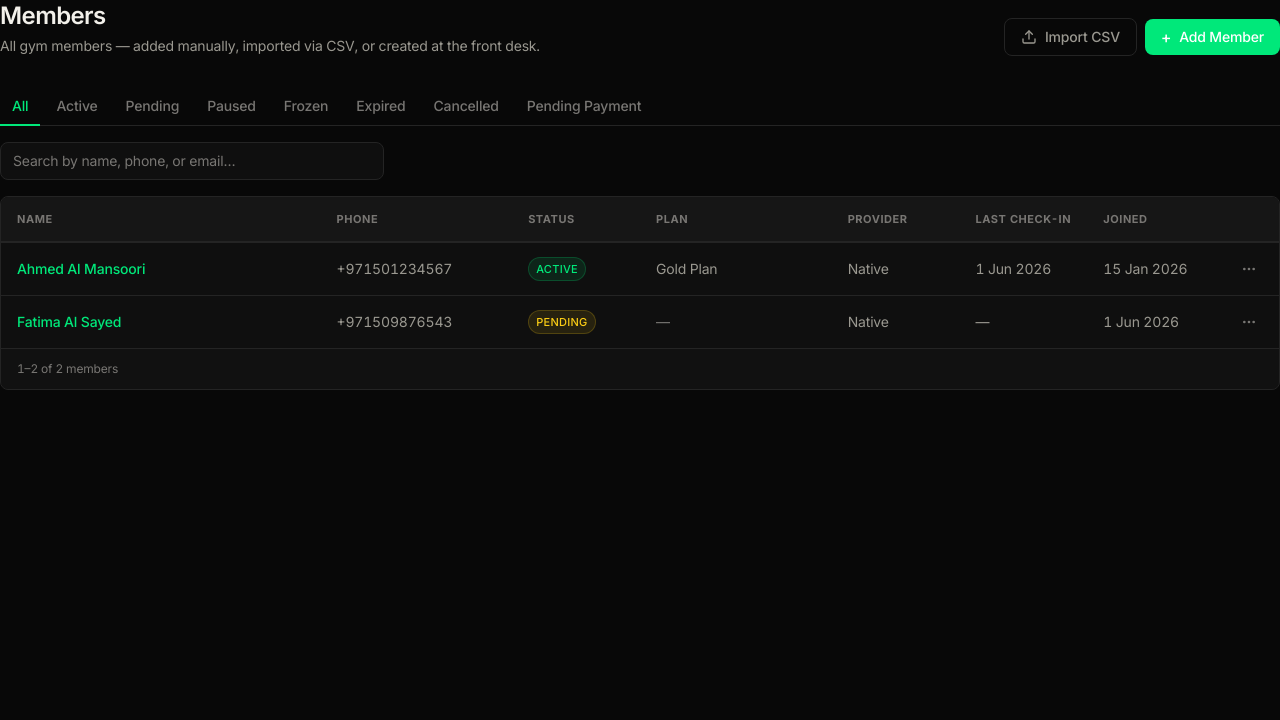
MembersClient › deactivate flow › opens confirm dialog when Deactivate clicked
The image size is (1280, 720).
Step 1. Click the button named "Actions for" → (1249, 269), box [1235, 255, 1263, 283]
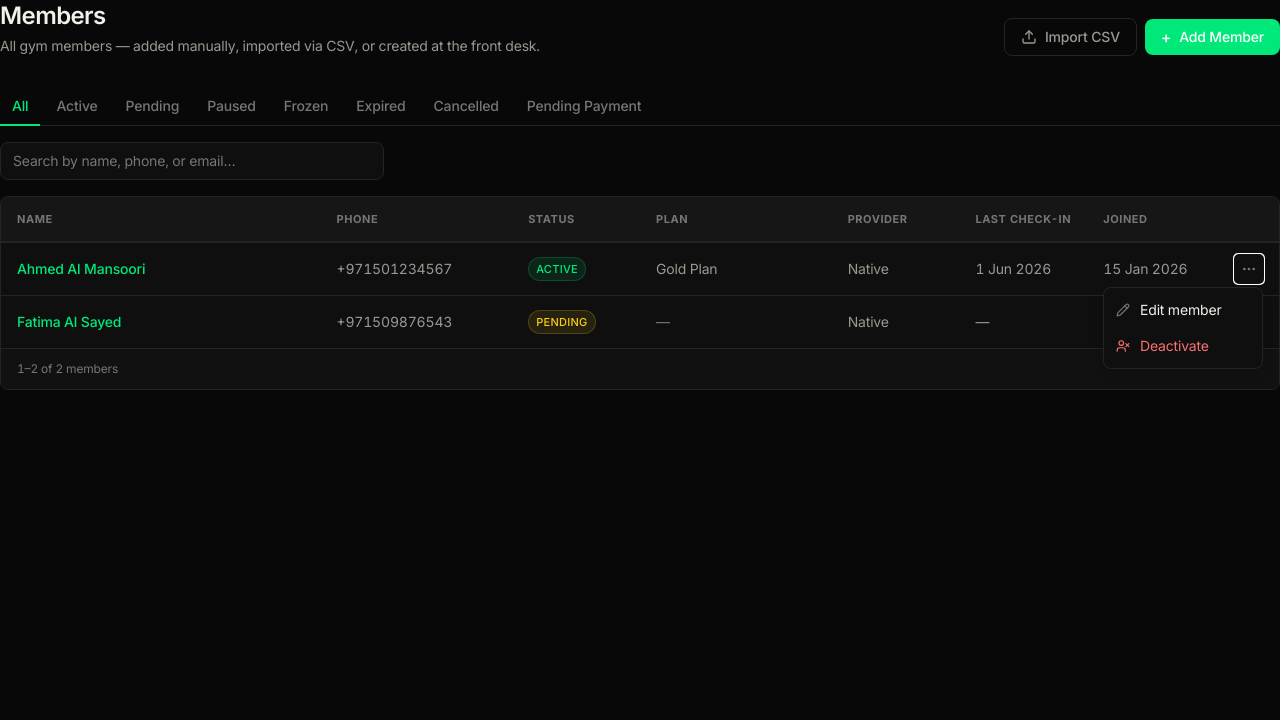
Step 2. Click the button "Deactivate" → (1183, 346), box [1104, 328, 1262, 364]
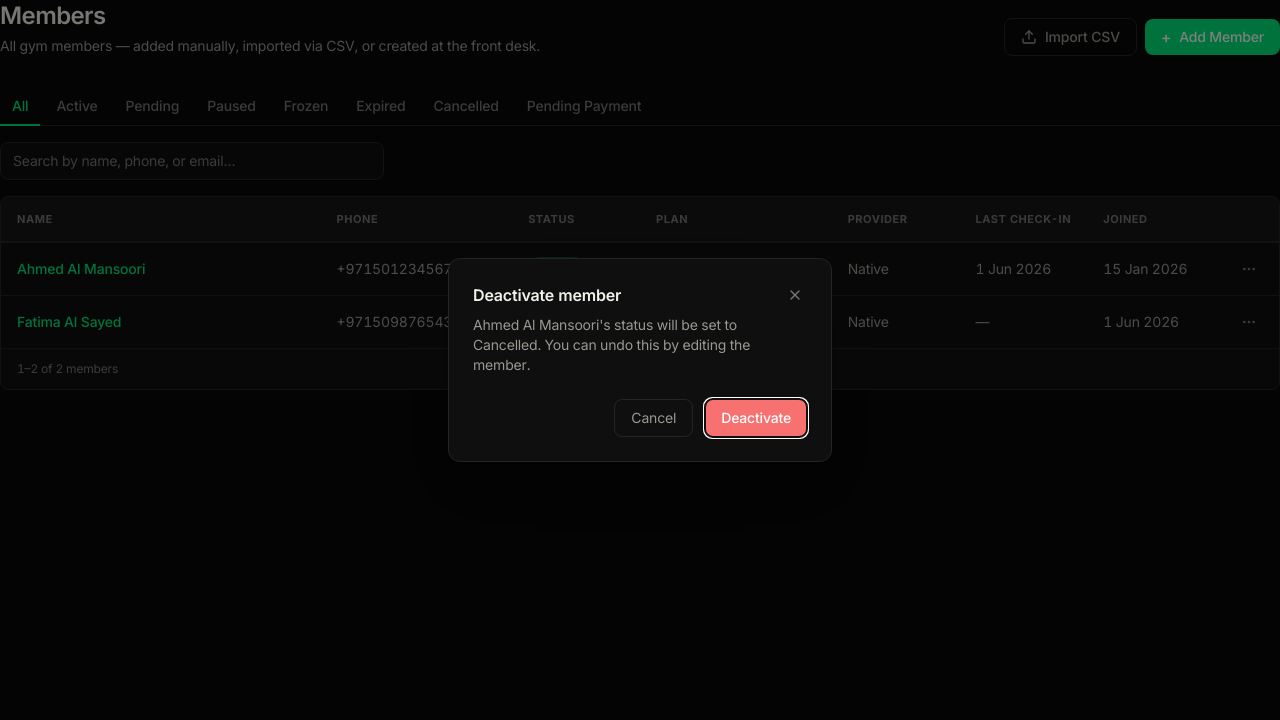
Check: the heading "Deactivate member" is shown, box [473, 283, 621, 307]
